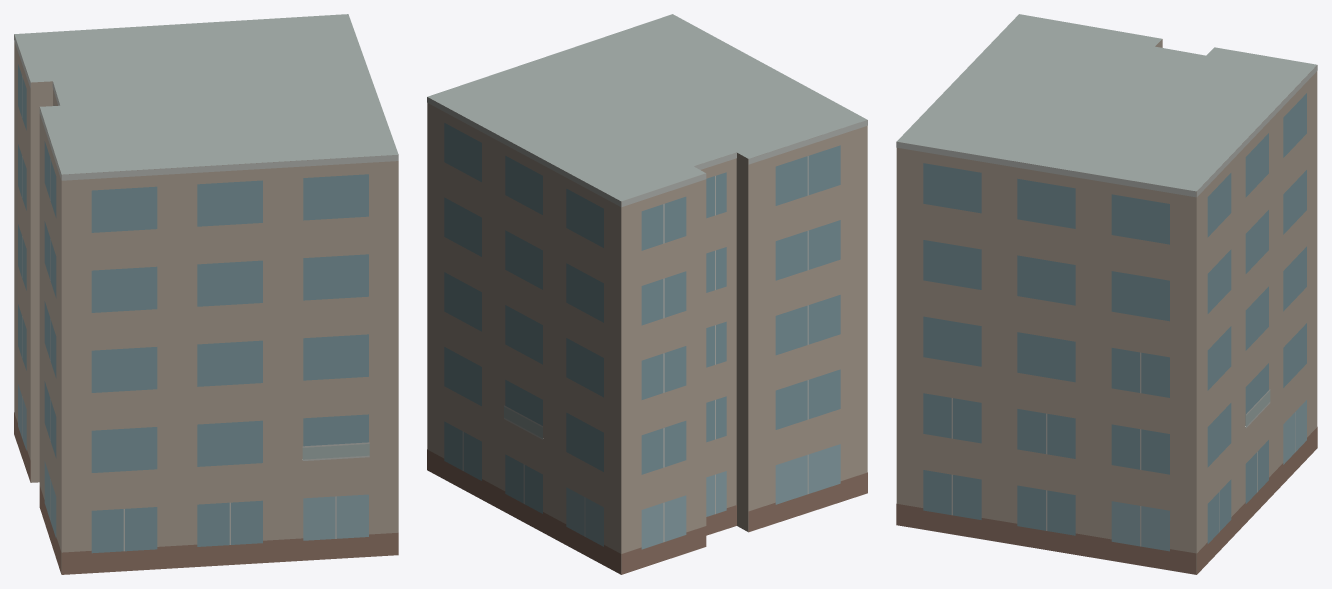
Rendered from survey-upis-32663376.glb.
3 renders of one model, left to right at view 1: azimuth 30°, elevation 25°; view 2: azimuth 150°, elevation 25°; view 3: azimuth 270°, elevation 25°, orthographic. The views are drawn at different scales.
Parts seen in each view (by area): view 1: survey-upis-32663376.tmp; view 2: survey-upis-32663376.tmp; view 3: survey-upis-32663376.tmp.
Part boxes in pixels (x1=…): survey-upis-32663376.tmp: x1=14, y1=14, x2=398, y2=574; survey-upis-32663376.tmp: x1=427, y1=14, x2=867, y2=574; survey-upis-32663376.tmp: x1=896, y1=14, x2=1317, y2=574.
Bounding box in the file's own units: 15.54 × 15.65 × 15.58.
